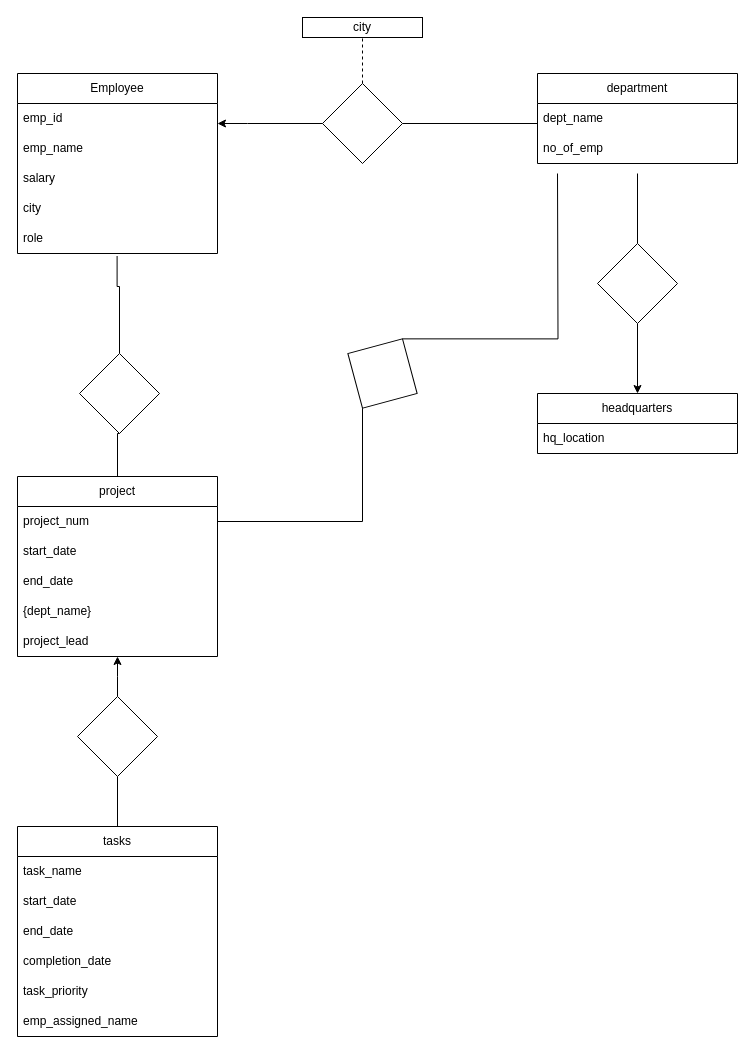
This 755x1054 diagram has some shape labels left out. Here are the shapes that lost their labels. From the top down, the centre of each, then its label:
At [362,123]: "works_in".
At [119,393]: "working_on".
